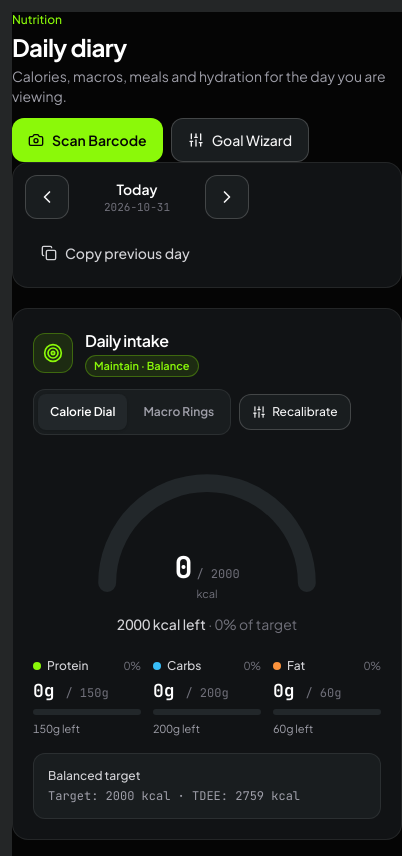
Test: Diary tools › tells the user when there is nothing to copy from the previous day
Click the button "Copy previous day": (115, 253) [25, 231, 206, 275]
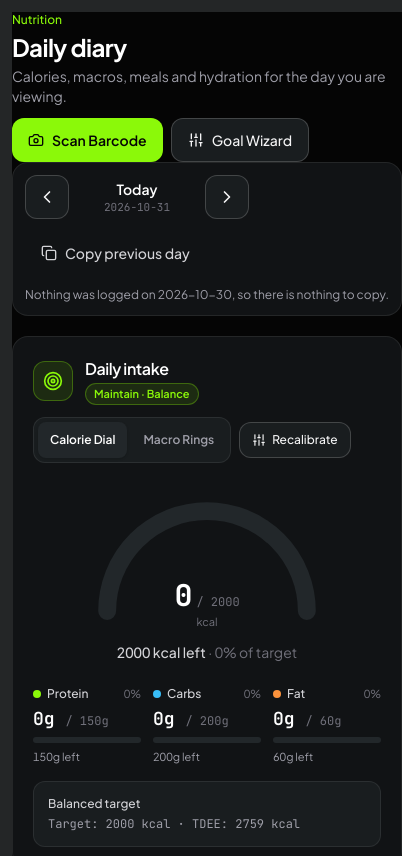
Now the message "Nothing was logged on 2026-10-30, so there is nothing to copy." is shown, box [25, 287, 389, 303]
